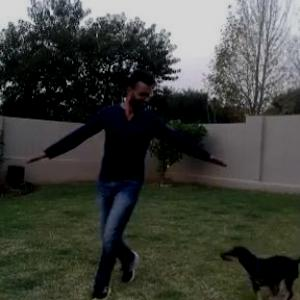land: (48, 74, 228, 273)
